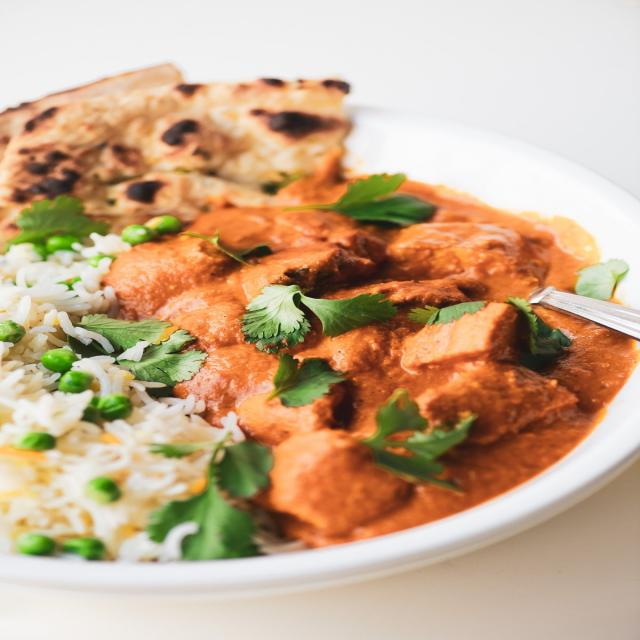Chicken Tikka: (104, 172, 640, 543)
